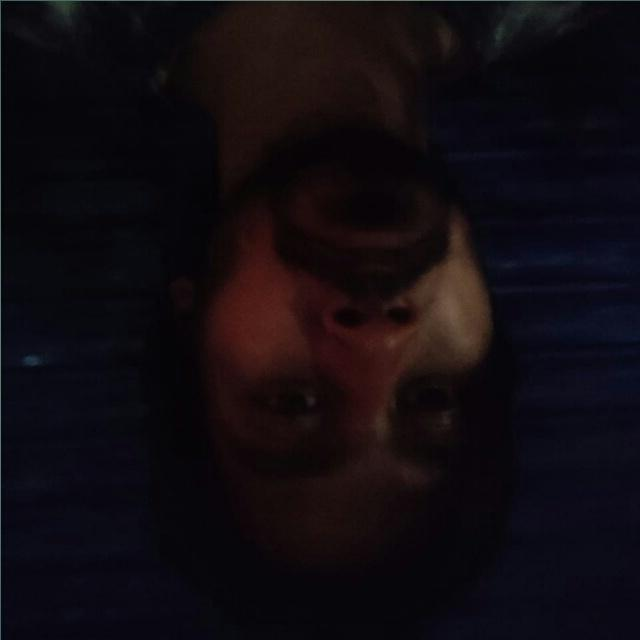Sad: (175, 114, 512, 596)
